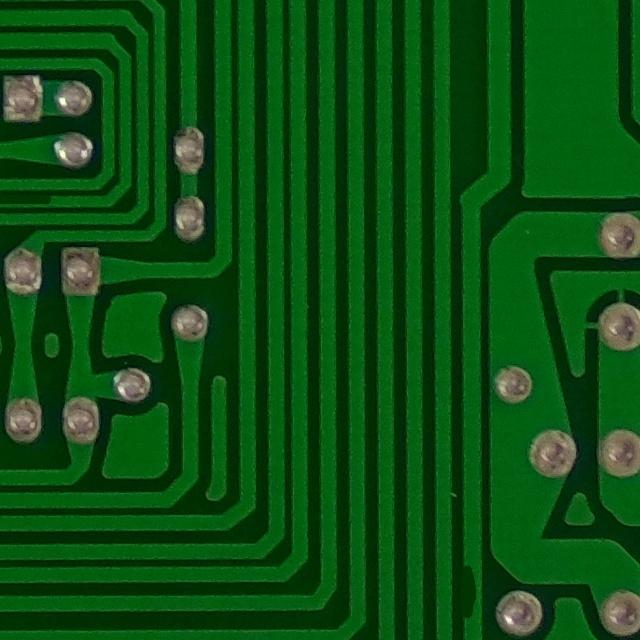mouse_bite: (453, 558, 491, 634), (0, 185, 59, 216)
